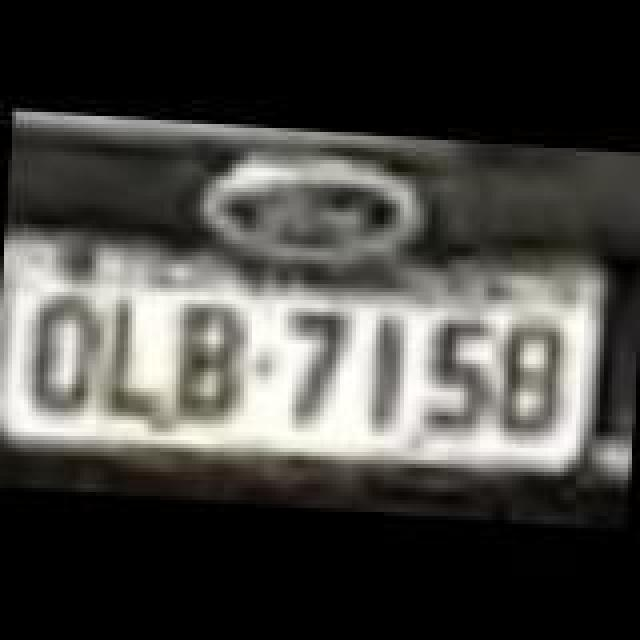1: (364, 304, 412, 432)
5: (422, 314, 490, 438)
7: (276, 310, 348, 434)
8: (490, 314, 566, 438)
B: (178, 300, 254, 420)
L: (100, 296, 180, 424)
O: (30, 290, 98, 414)
